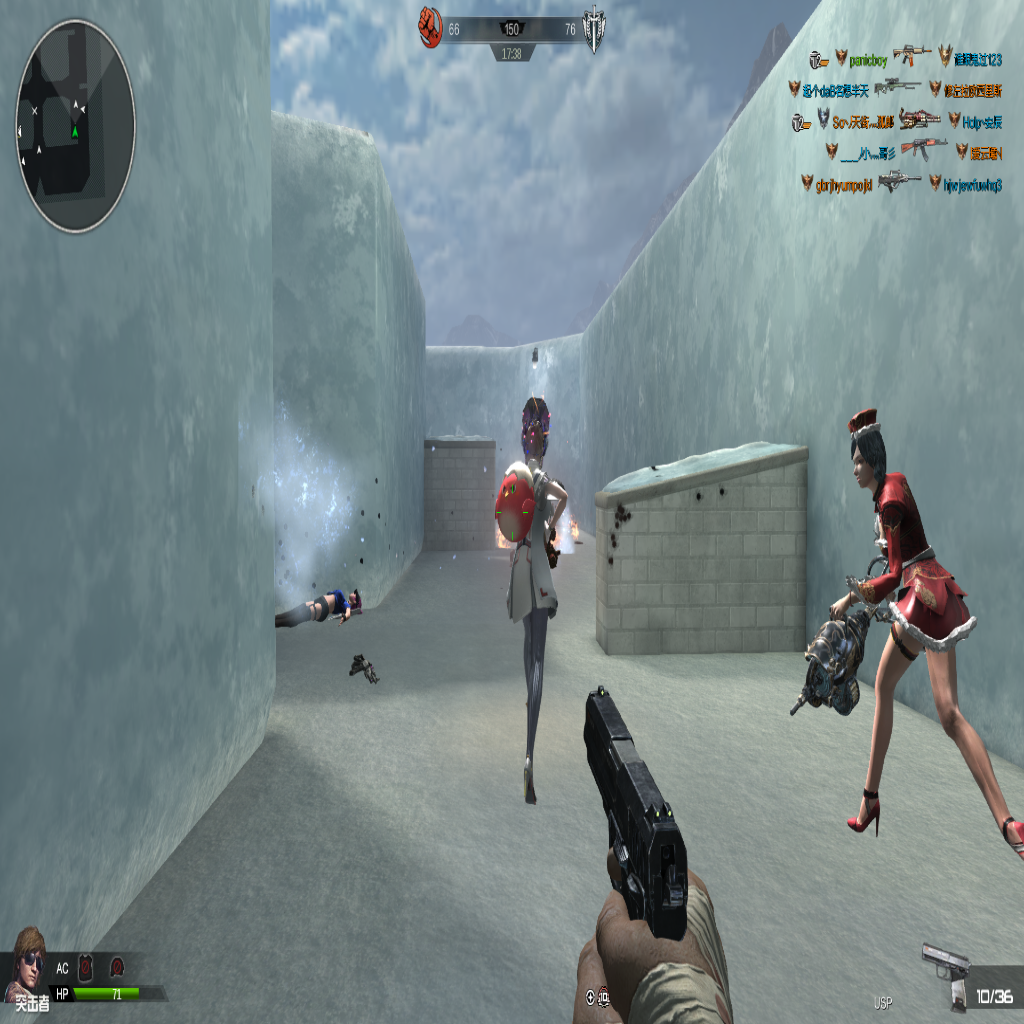tt: (815, 416, 1024, 866)
